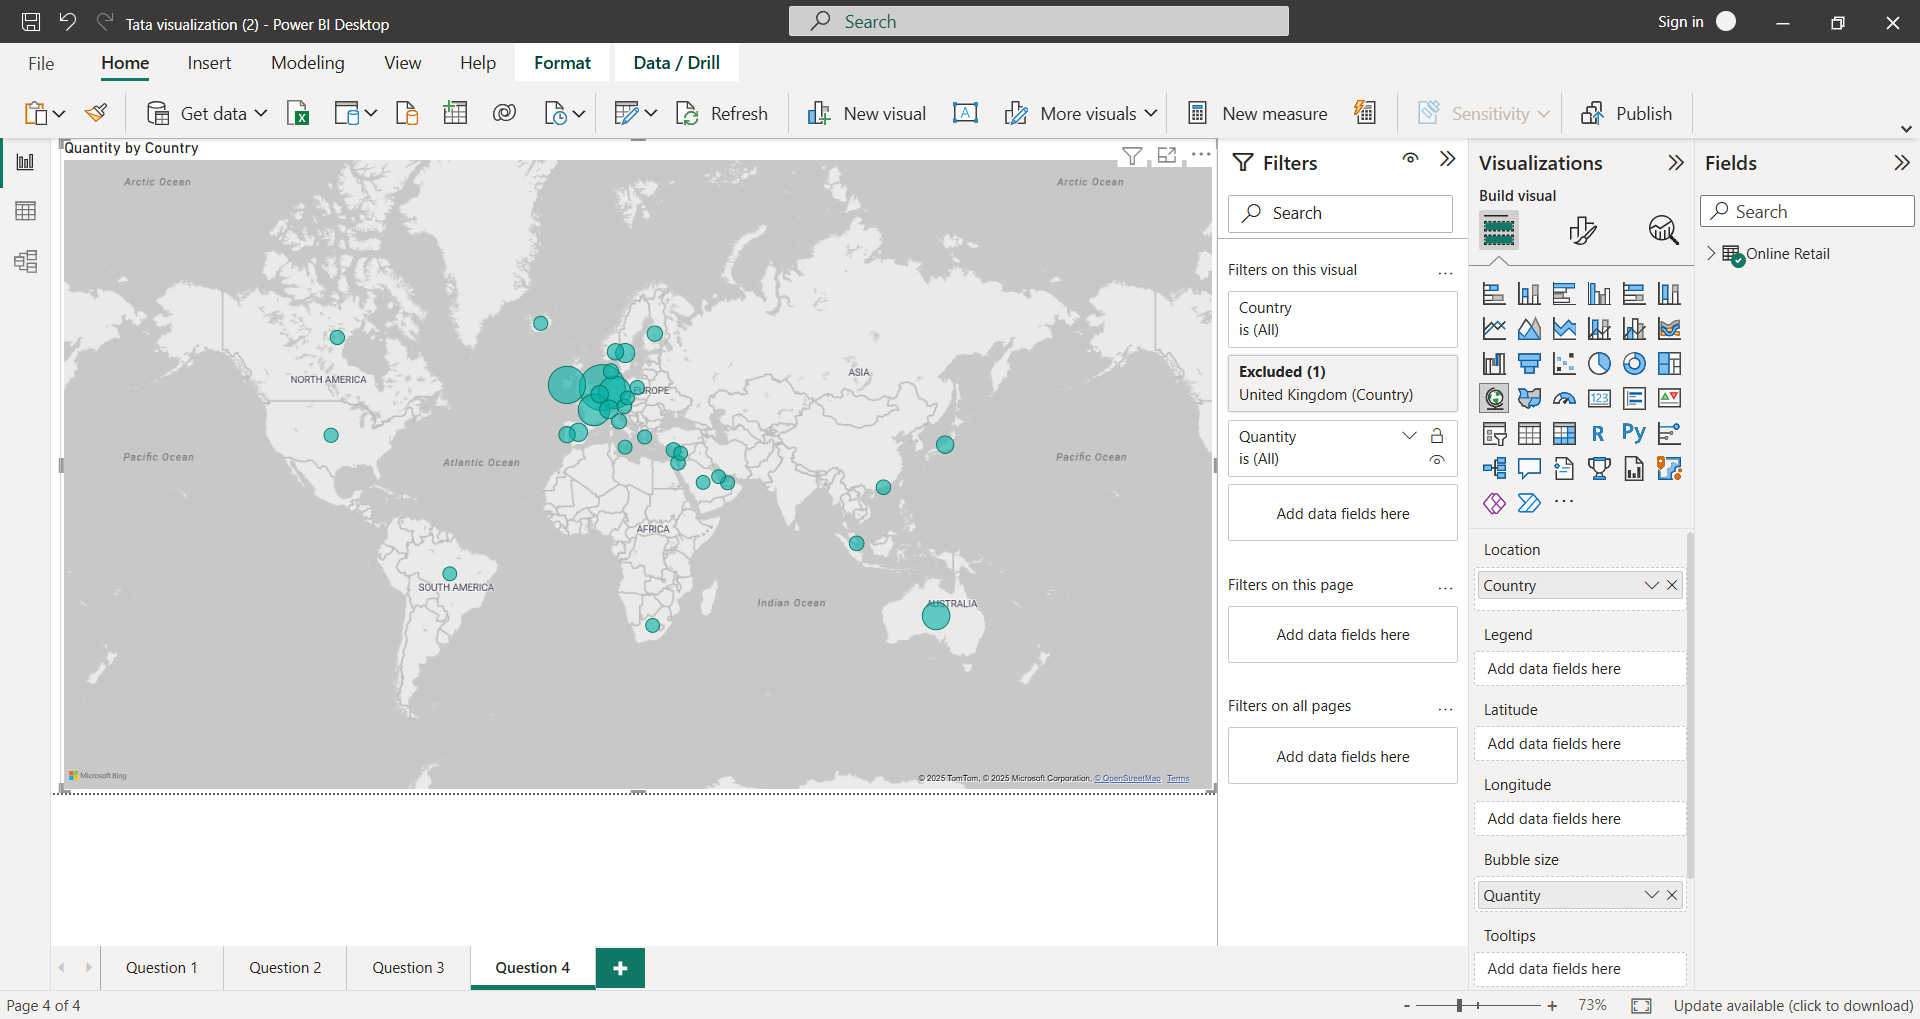

The dashboard page shown, as its layout file describes it:
{"tool":"powerbi","page":{"name":"Question 4","canvas":[1280,720],"ordinal":3},"visuals":[{"type":"map","fields":{"Category":["Online Retail.Country"],"Size":["Sum(Online Retail.Quantity)"]},"box":[9.7,0,1270.3,719.8],"z":0}]}

Visuals, with their boxes on the page's 1280x720 design canvas (x1, y1, x2, y2). These are canvas units, not pixel positions in the 1920x1019 screenshot, which may show the page scaled, cropped or inside an application window:
map - Online Retail.Country x Sum(Online Retail.Quantity): (x1=10, y1=0, x2=1280, y2=720)
